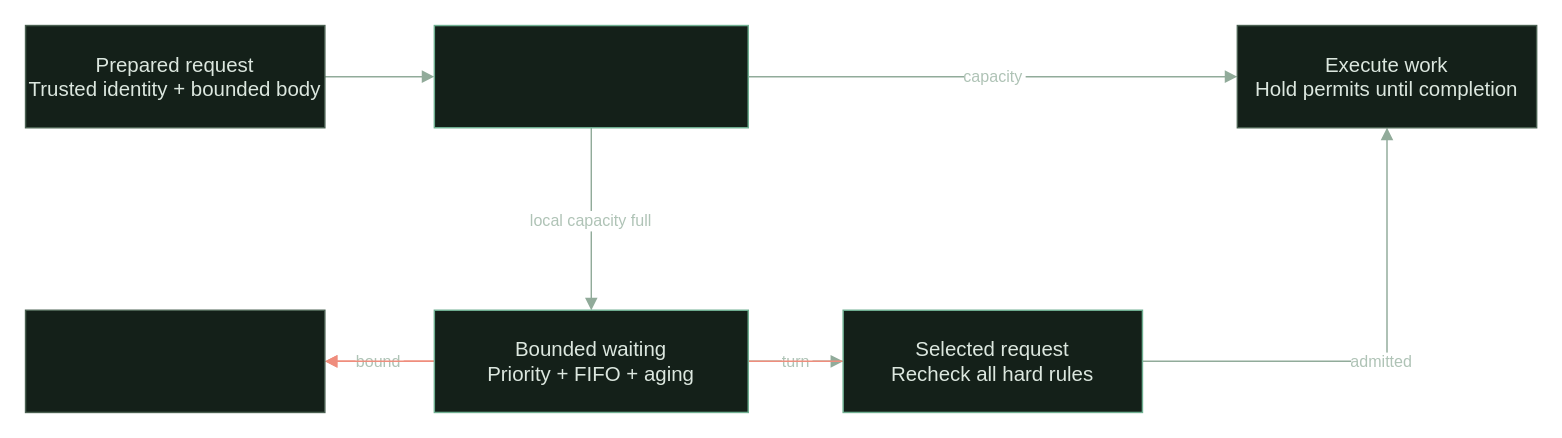
The diagram is 1562 pixels wide and 438 high, and some of its shapes have lost their labels. The centre of each missing label's shape, as x and y in pixels:
Admission checks Signals / resources / tenant: [590,76]
Reject / cancel Full / expired / caller done: [174,360]
